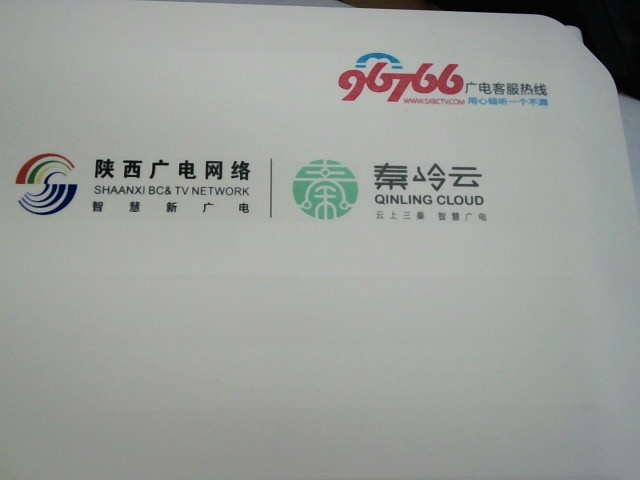AE_QinLing: (285, 154, 495, 224)
